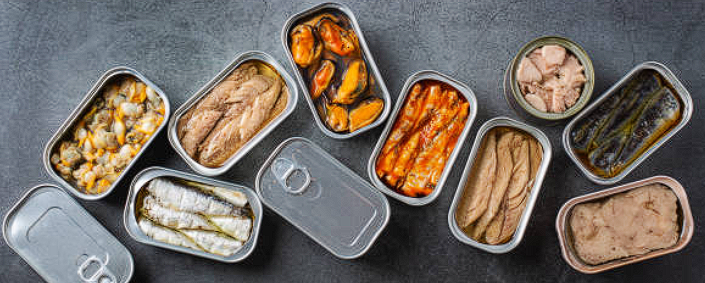Danificado: (382, 68, 491, 215), (279, 6, 396, 131), (568, 53, 685, 175), (135, 159, 261, 269), (50, 59, 160, 183), (463, 107, 540, 261), (555, 187, 695, 264), (176, 51, 273, 160), (511, 34, 593, 118)
Intacto: (275, 135, 380, 260), (3, 184, 129, 283)
